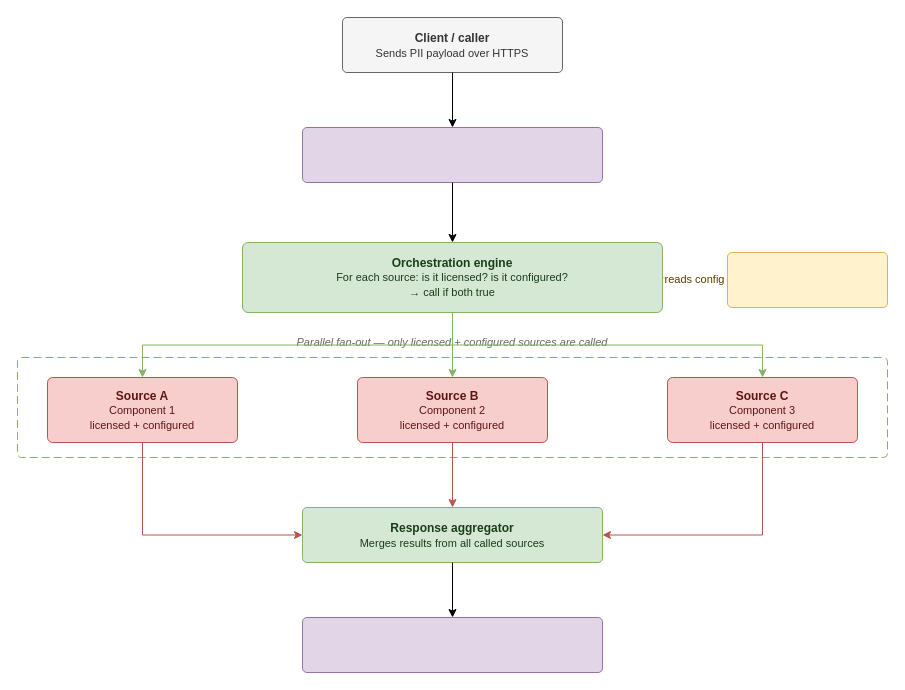
This 905x690 diagram has some shape labels left out. Here are the shapes that lost their labels. From the top down, the box of each, then its label:
(302, 126, 602, 182): API entry point Auth, validation, rate-limiting
(726, 252, 888, 308): Product config Per-customer flags
(302, 616, 602, 672): Enriched response Original PII + appended data → returned to caller
